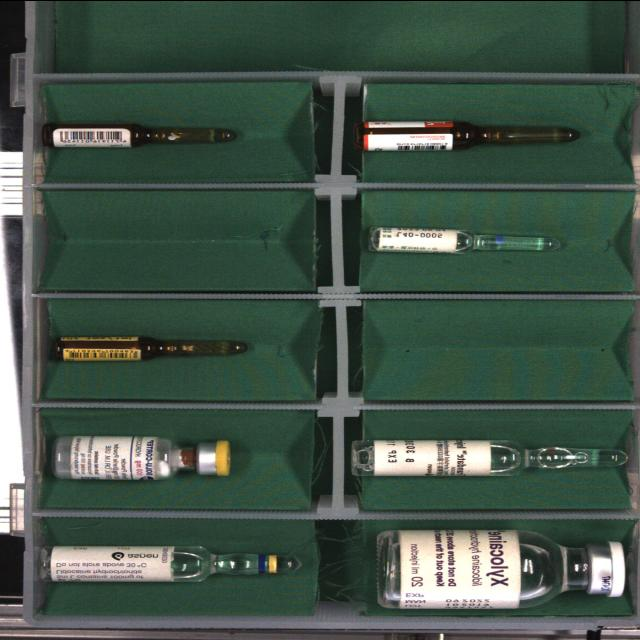Vials: (378, 529, 626, 608), (54, 436, 230, 479)
